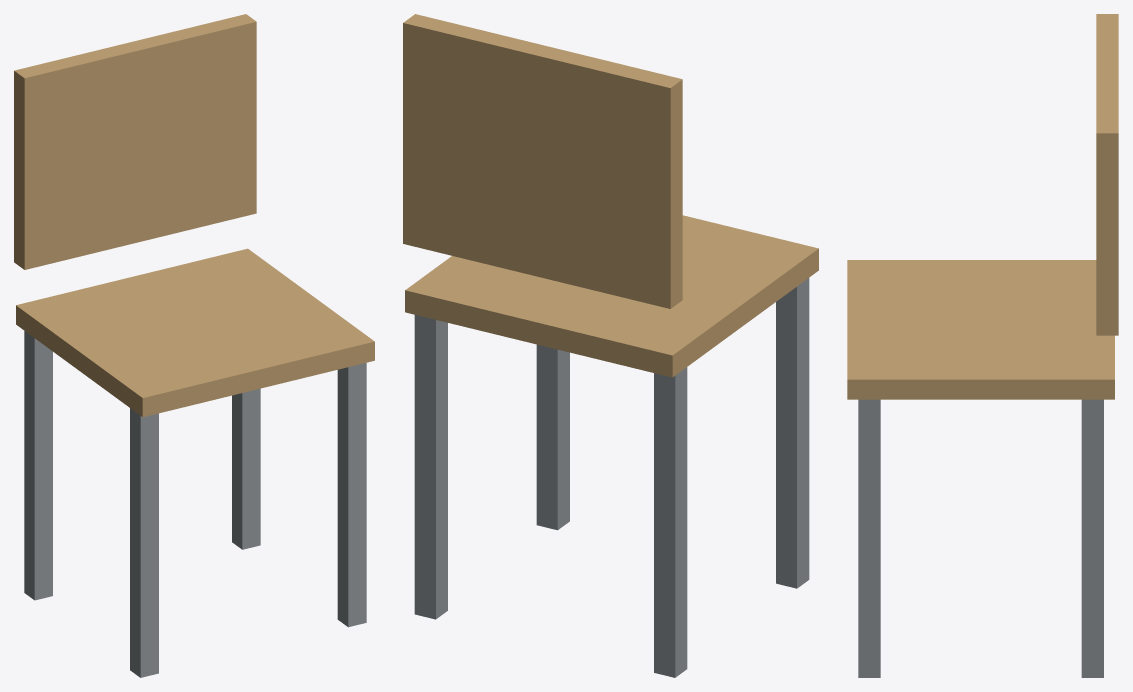
Rendered from schair.glb.
3 views of the same model, side by side, from view 1: azimuth 30°, elevation 25°; view 2: azimuth 150°, elevation 25°; view 3: azimuth 270°, elevation 25° (orthographic). The views are drawn at different scales.
Parts seen in each view (by area): view 1: schair; view 2: schair; view 3: schair.
Boxes of the visible parts, box(x1,y1,x2,y2) form: schair: box(14, 14, 374, 677); schair: box(403, 14, 818, 677); schair: box(847, 14, 1118, 677).
Bounding box in the file's own units: 0.38 × 0.81 × 0.365.
